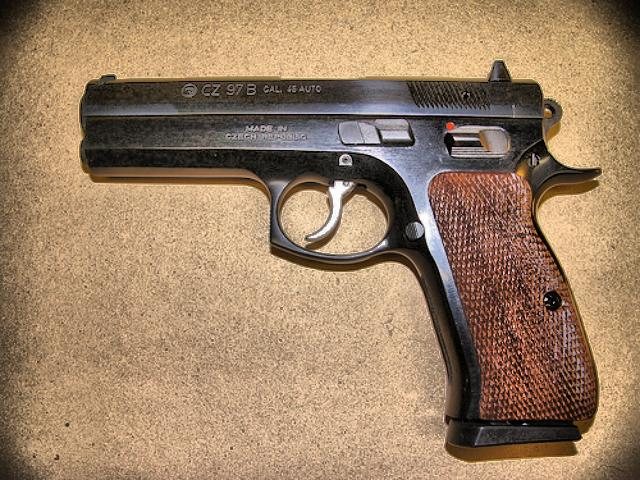pistol: (77, 60, 599, 444)
